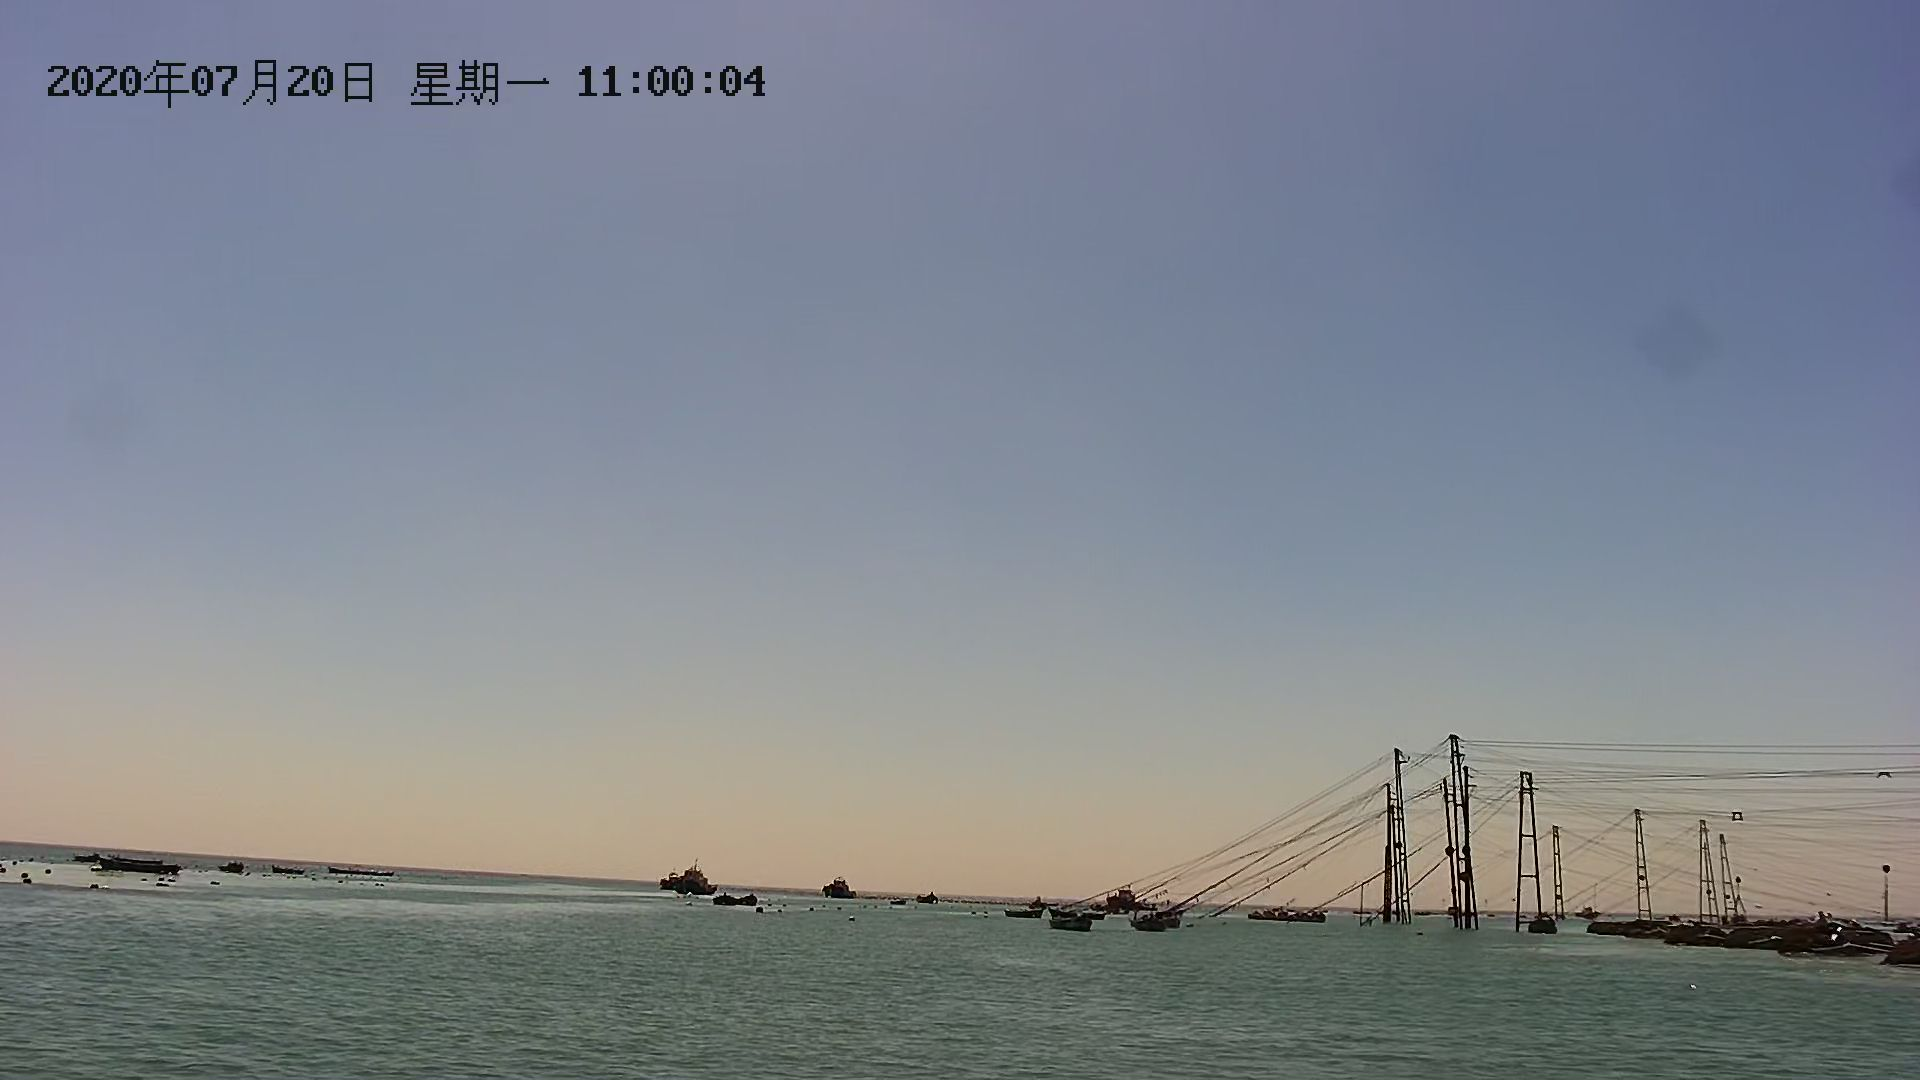boat: (102, 848, 174, 877), (1052, 915, 1097, 934)
mast: (1440, 735, 1478, 931), (1511, 764, 1553, 931), (1383, 748, 1414, 927), (1629, 802, 1662, 927), (1712, 829, 1750, 932), (1693, 818, 1725, 928), (1549, 822, 1569, 923)
rubbish: (658, 864, 716, 897)
ship: (822, 877, 857, 901)
